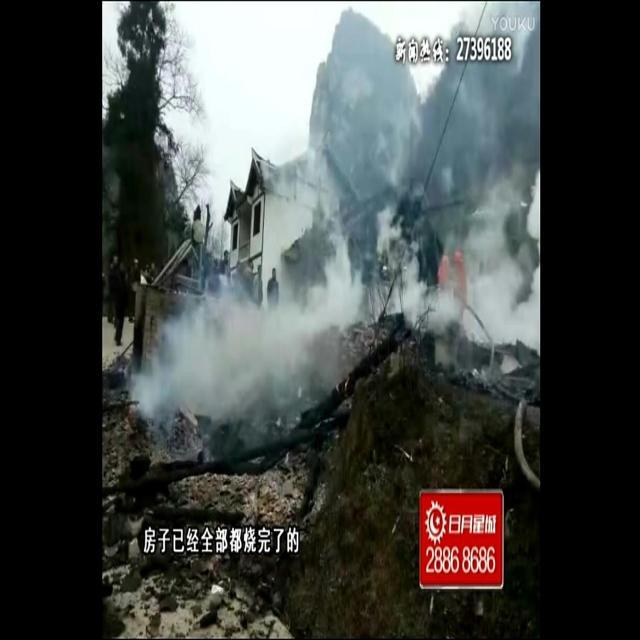Smoke: (130, 162, 540, 460)
